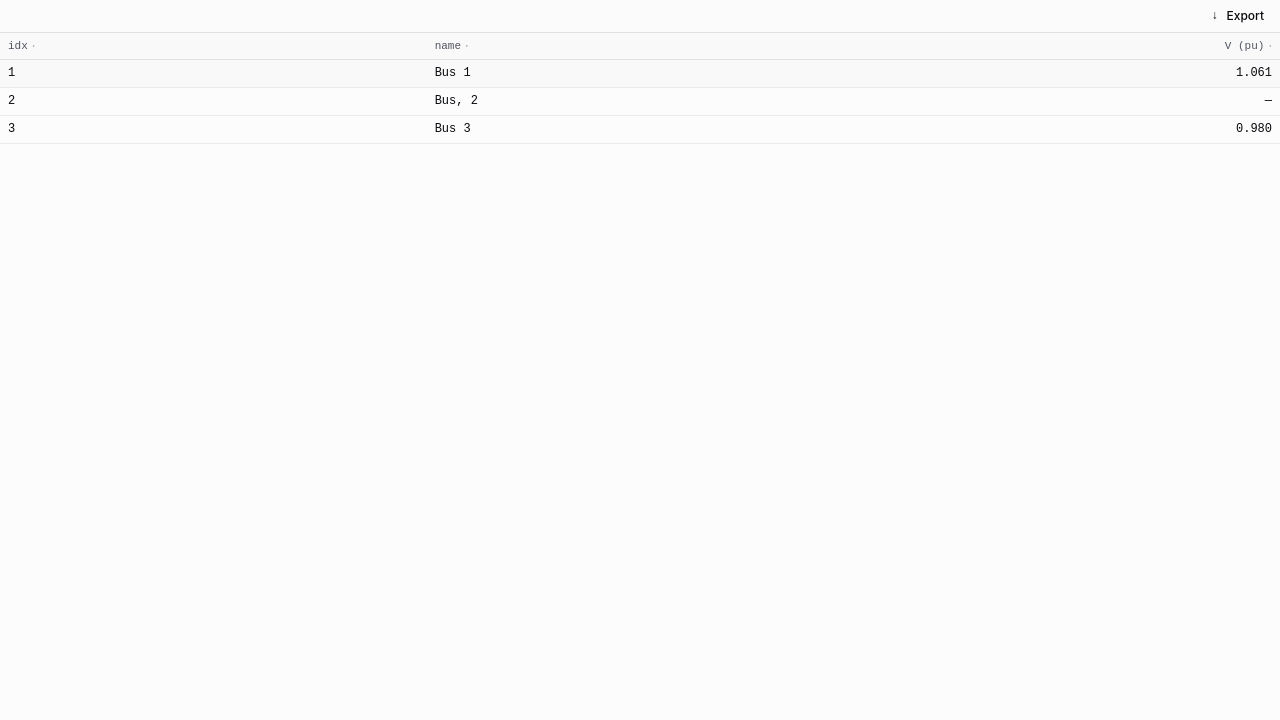
it: <DataGrid /> export › offers CSV only
Click the button with test id "export-menu-trigger" at {"x": 1238, "y": 16}, box [1199,0,1276,32]
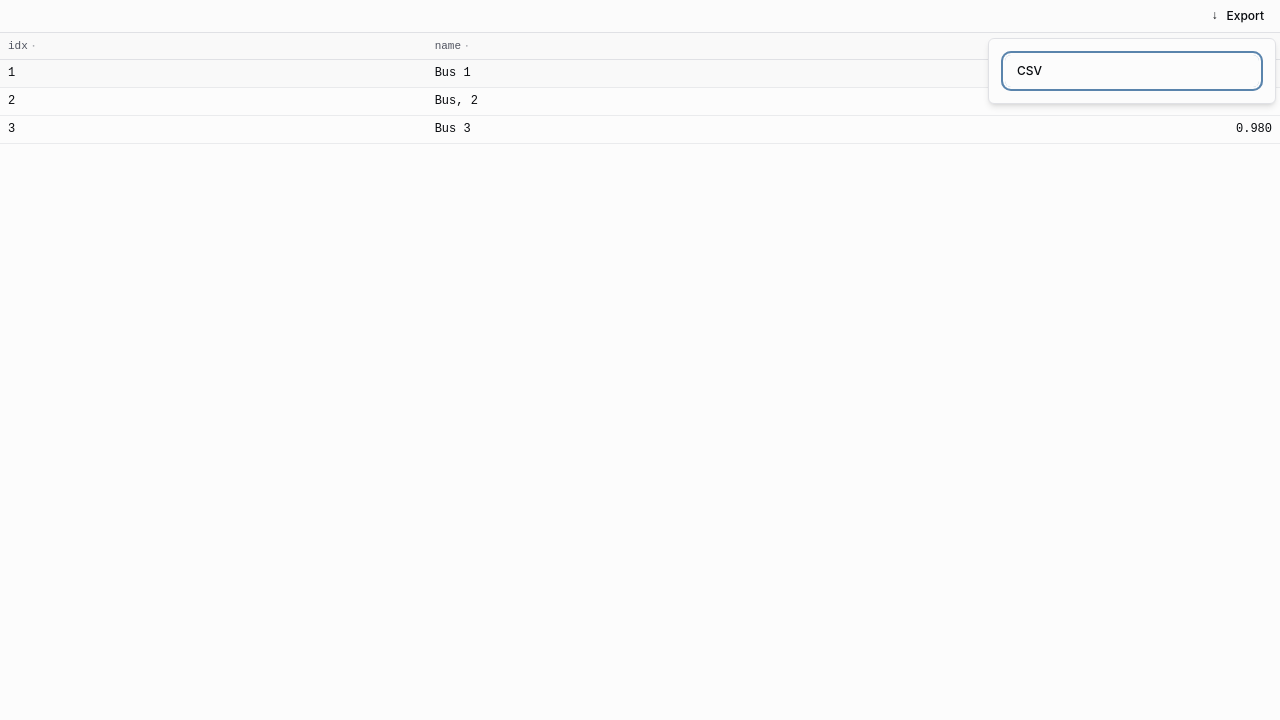
Expected: the button with test id "export-menu-csv" is enabled, [1005,55,1259,87]
